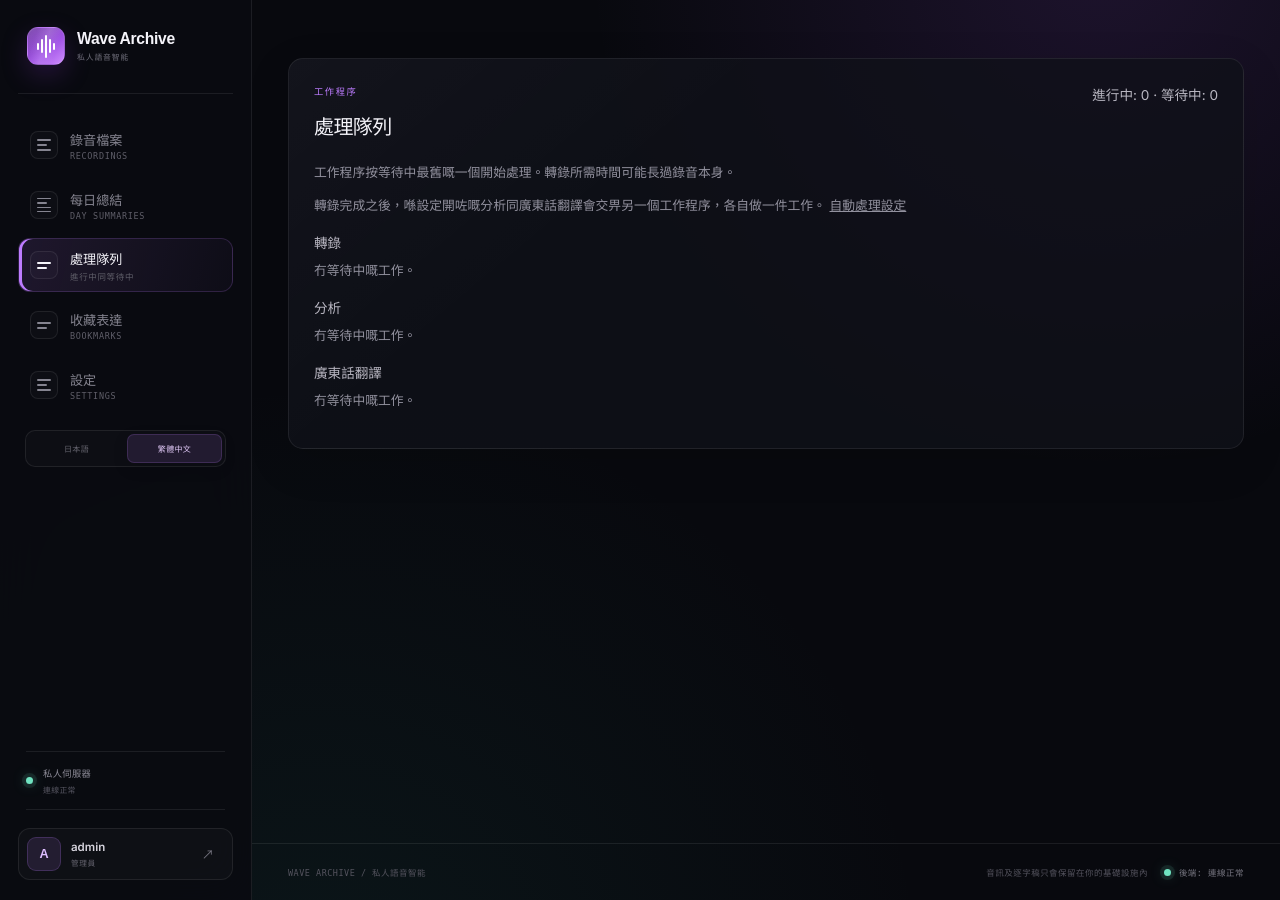
Scenario: settings page › is linked from the queue, where the chain it controls is explained
This screenshot has width=1280, height=900.
Click the link "自動處理設定". click: click(868, 206)
box: [830,198,906,213]
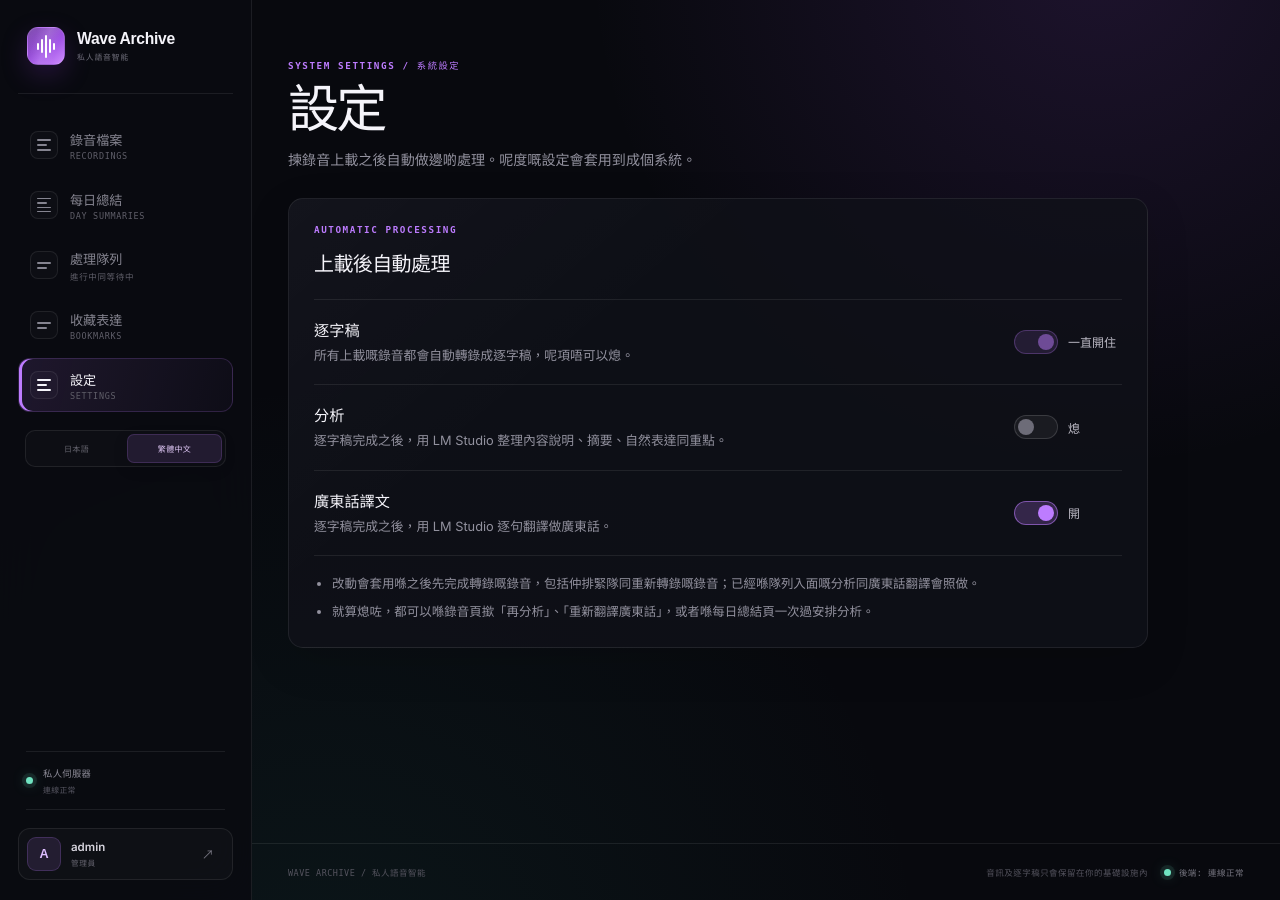
Now the switch named "分析" is not checked, box [1014,415,1080,439]
